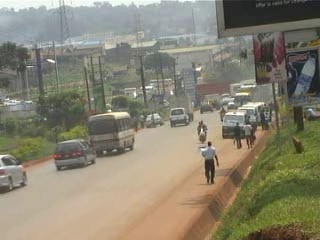Car: (50, 136, 97, 172), (0, 150, 29, 195), (166, 105, 189, 127), (144, 110, 164, 128), (199, 98, 212, 114), (220, 96, 231, 108)
Motorcycle: (195, 121, 207, 146), (216, 105, 228, 123)
